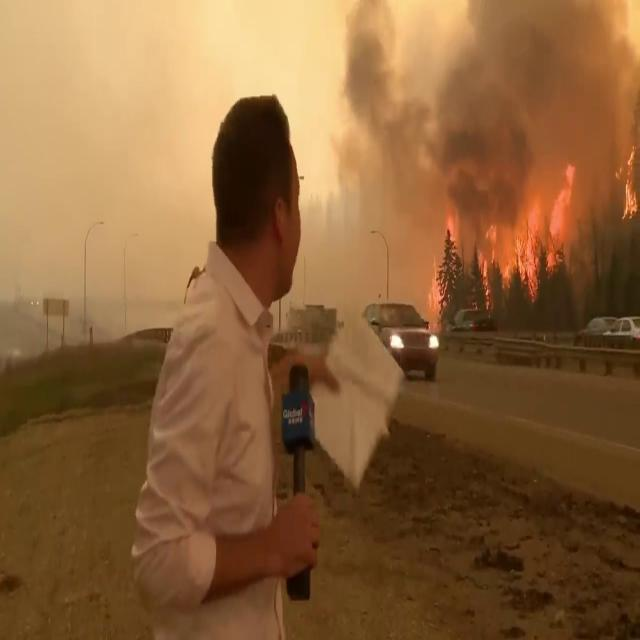Fire: (483, 164, 576, 301)
Smoke: (321, 2, 636, 292)
